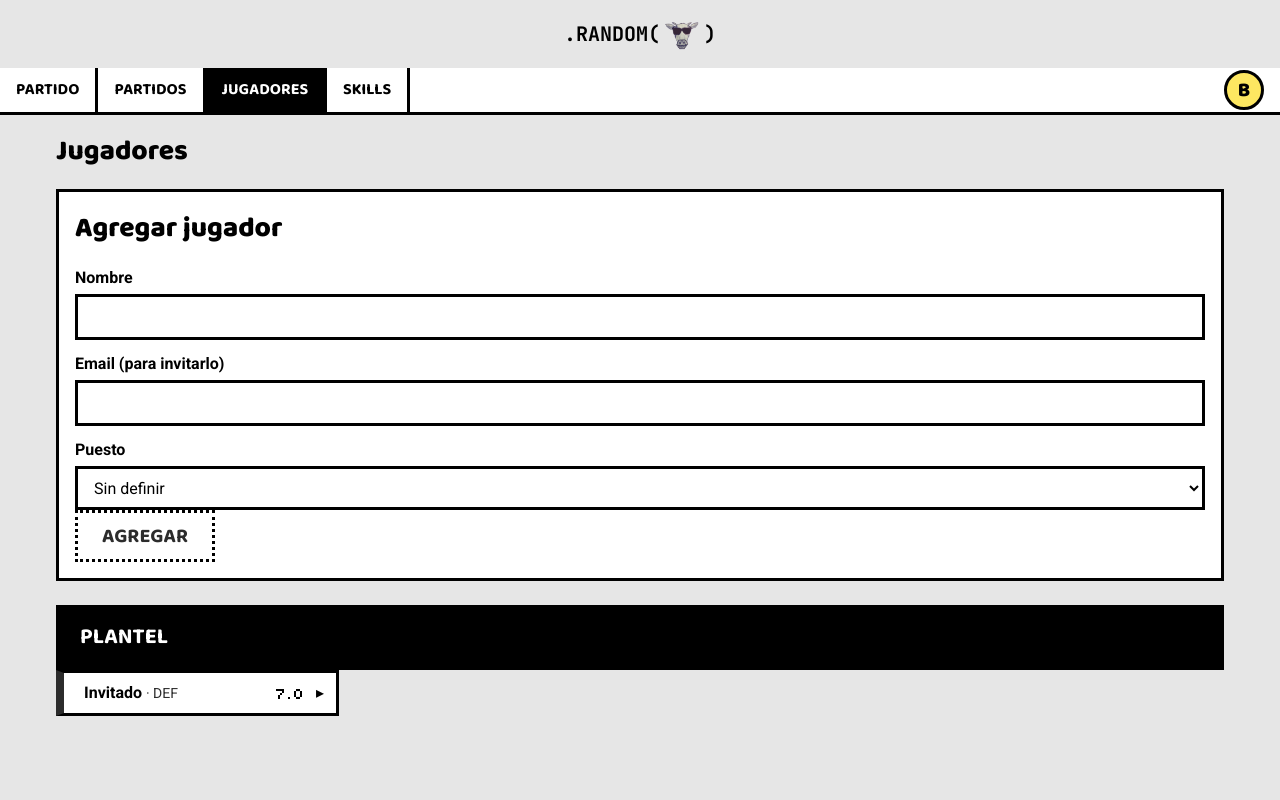
Test: plantel (admin) › invitado: muestra su nivel y el admin lo puede editar (sin tabla de skills)
The width and height of the screenshot is (1280, 800).
Click the button "Invitado · DEF 7.0 ▸" at point(113, 692), box 56,670 -> 339,716
(page scrolled)
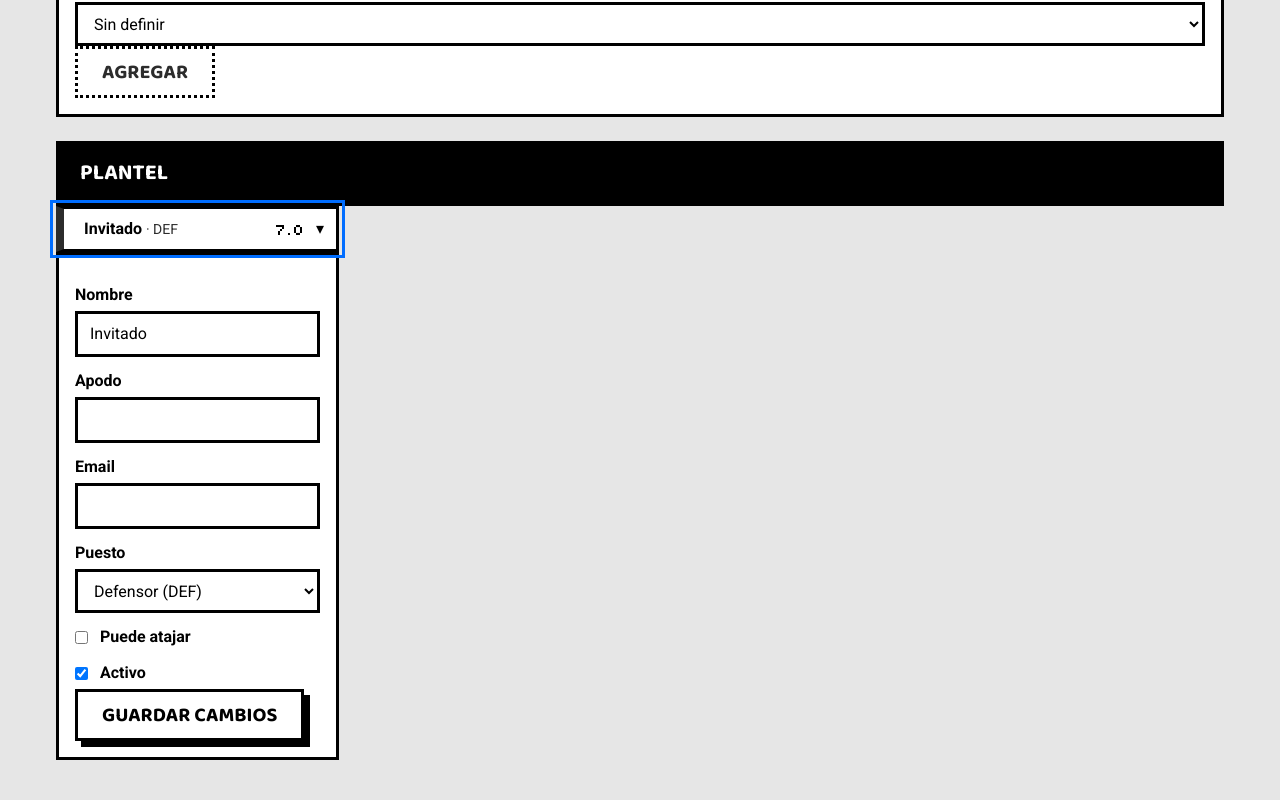
Now the form named "Editar Invitado" is shown, box 56,252 -> 339,760
